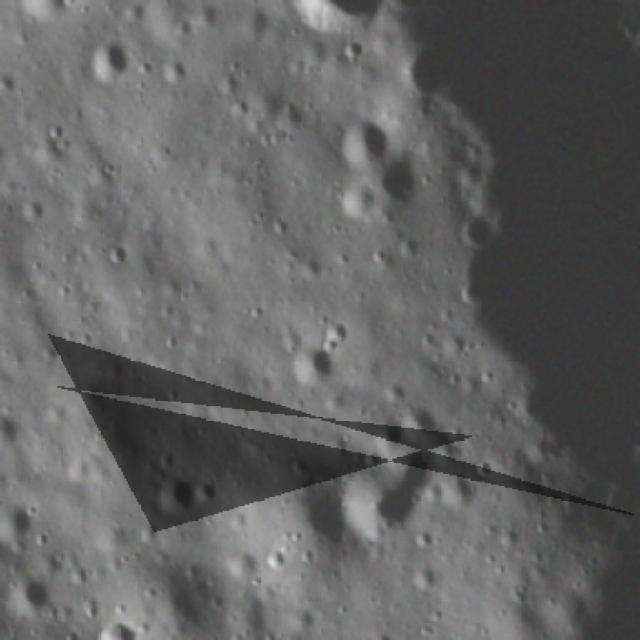crater: (275, 447, 388, 558), (364, 153, 418, 210), (278, 339, 337, 390), (150, 469, 202, 526), (334, 115, 386, 168), (86, 36, 131, 90), (162, 58, 189, 88)
